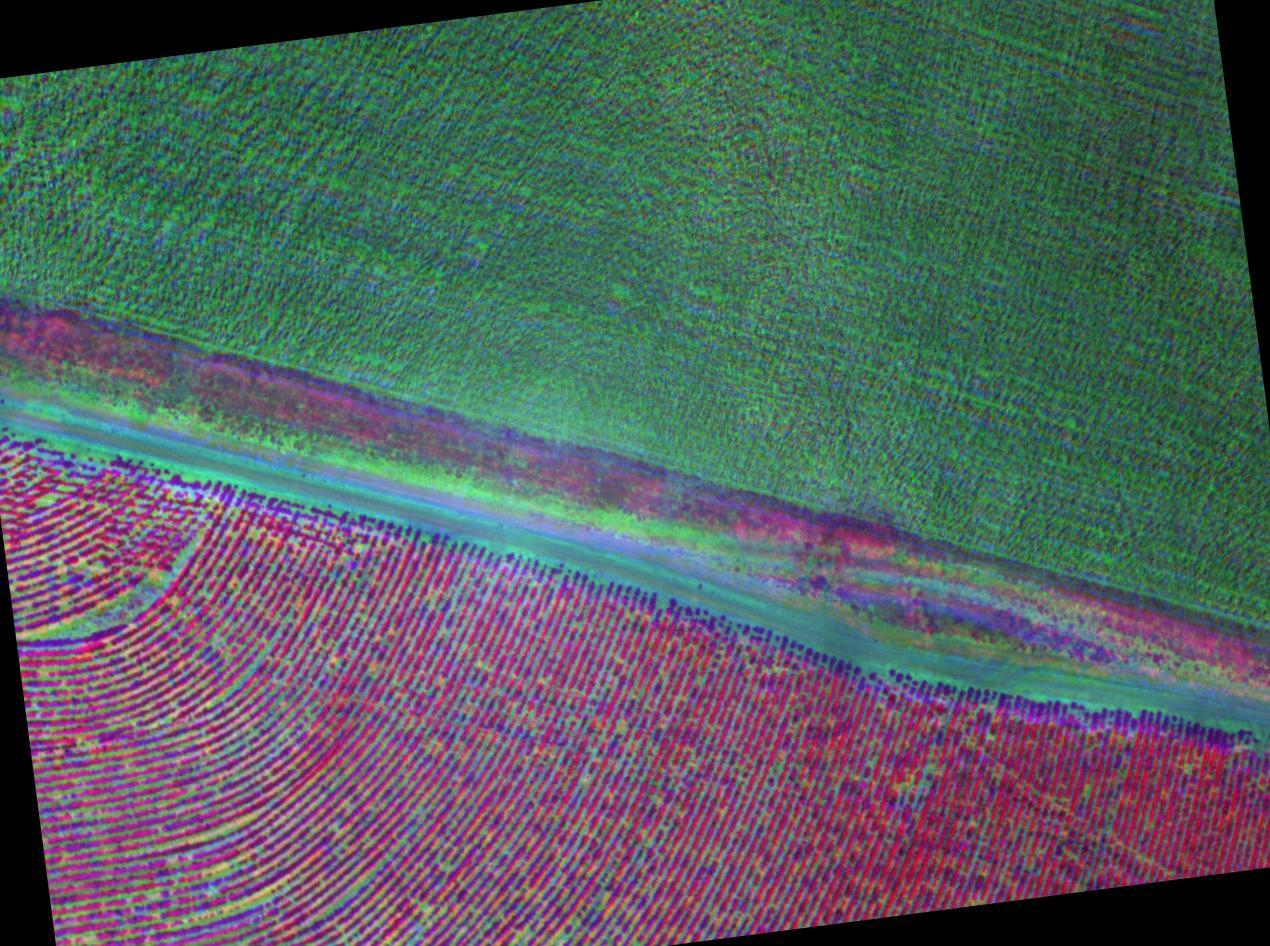dc: (16, 523, 212, 651), (93, 720, 216, 841), (236, 633, 333, 723), (291, 833, 386, 911), (478, 873, 565, 946)
